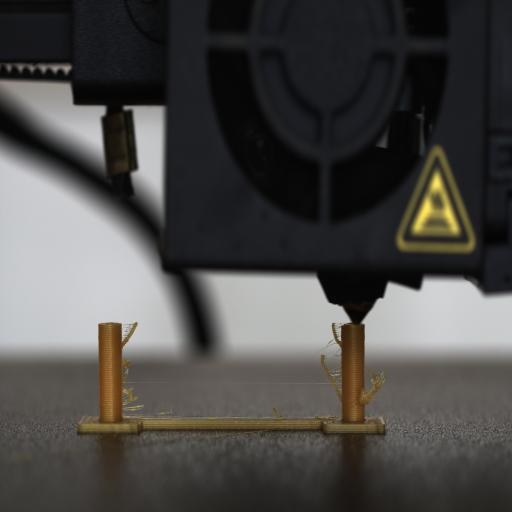stringing: (118, 314, 147, 414), (353, 366, 383, 413)
